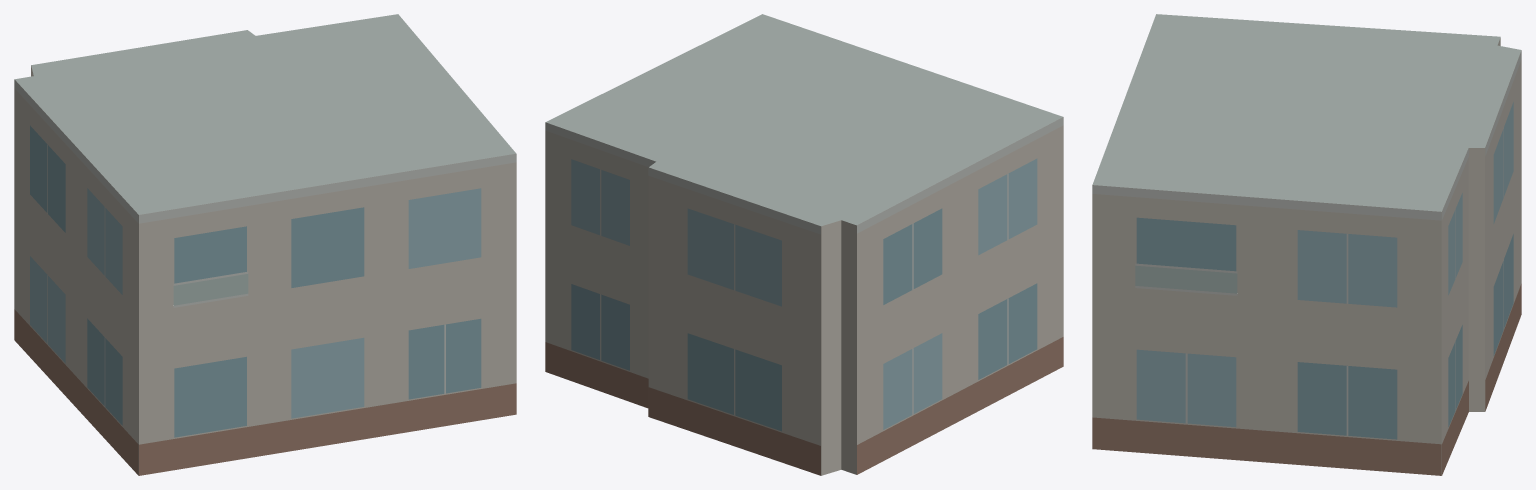
The model's file is survey-upis-32942909.glb.
3 views of the same model, side by side, from view 1: azimuth 30°, elevation 25°; view 2: azimuth 150°, elevation 25°; view 3: azimuth 270°, elevation 25° (orthographic). The views are drawn at different scales.
Visible parts, largest first — view 1: survey-upis-32942909.tmp; view 2: survey-upis-32942909.tmp; view 3: survey-upis-32942909.tmp.
Boxes of the visible parts, left/top/right/bottom form: survey-upis-32942909.tmp: left=14, top=14, right=516, bottom=475; survey-upis-32942909.tmp: left=545, top=14, right=1063, bottom=475; survey-upis-32942909.tmp: left=1092, top=14, right=1521, bottom=475.
Bounding box in the file's own units: 11.74 × 7.3 × 10.77.
